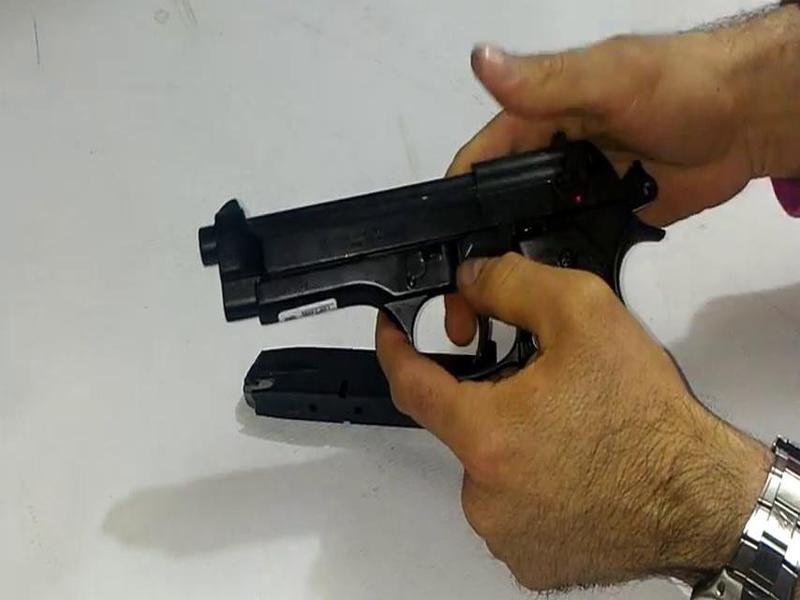Pistola: (160, 113, 685, 468)
